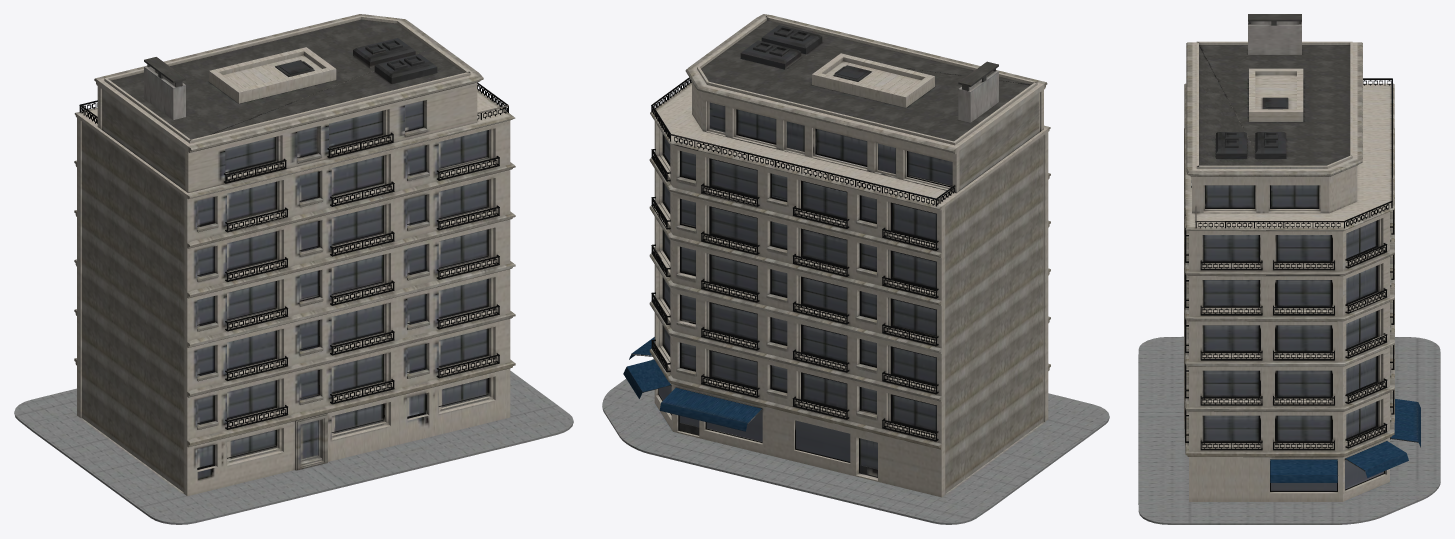
Rendered from bld22_02.glb.
3 renders of one model, left to right at view 1: azimuth 30°, elevation 25°; view 2: azimuth 150°, elevation 25°; view 3: azimuth 270°, elevation 25°, orthographic. The views are drawn at different scales.
Parts seen in each view (by area): view 1: bld22_02; view 2: bld22_02; view 3: bld22_02.
Boxes of the visible parts, box(x1,y1,x2,y2) form: bld22_02: box(14, 14, 573, 524); bld22_02: box(602, 14, 1109, 524); bld22_02: box(1138, 14, 1440, 524).
Bounding box in the file's own units: 47.44 × 42.02 × 32.52.
1 material, 1 textured.
